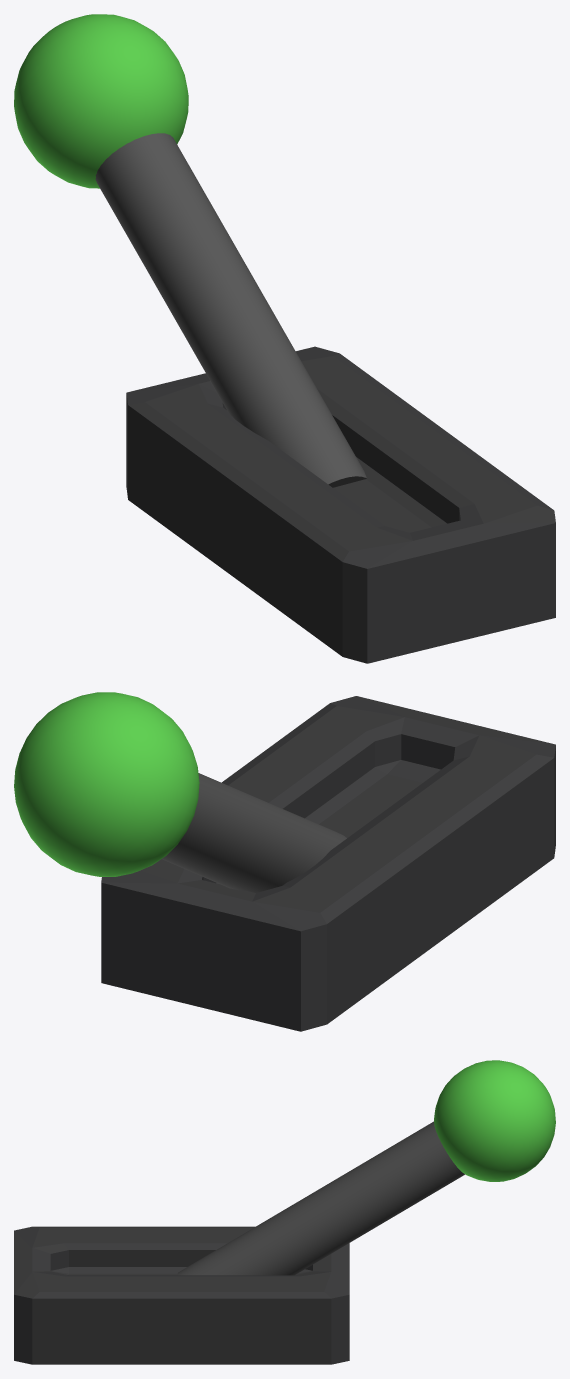
The model's file is lever.glb.
3 renders of one model, top to bottom at view 1: azimuth 30°, elevation 25°; view 2: azimuth 150°, elevation 25°; view 3: azimuth 270°, elevation 25°, orthographic. The views are drawn at different scales.
Parts seen in each view (by area): view 1: Cube_0, Cylinder_3; view 2: Cube_0, Cylinder_3; view 3: Cube_0, Cylinder_3.
Part boxes in pixels (bbox=[...]): Cube_0: bbox=[126, 346, 555, 663]; Cylinder_3: bbox=[14, 14, 366, 487]; Cube_0: bbox=[101, 696, 555, 1031]; Cylinder_3: bbox=[14, 692, 346, 892]; Cube_0: bbox=[14, 1226, 349, 1364]; Cylinder_3: bbox=[177, 1060, 555, 1275].
Bounding box in the file's own units: 6.09 × 10.26 × 19.37.
